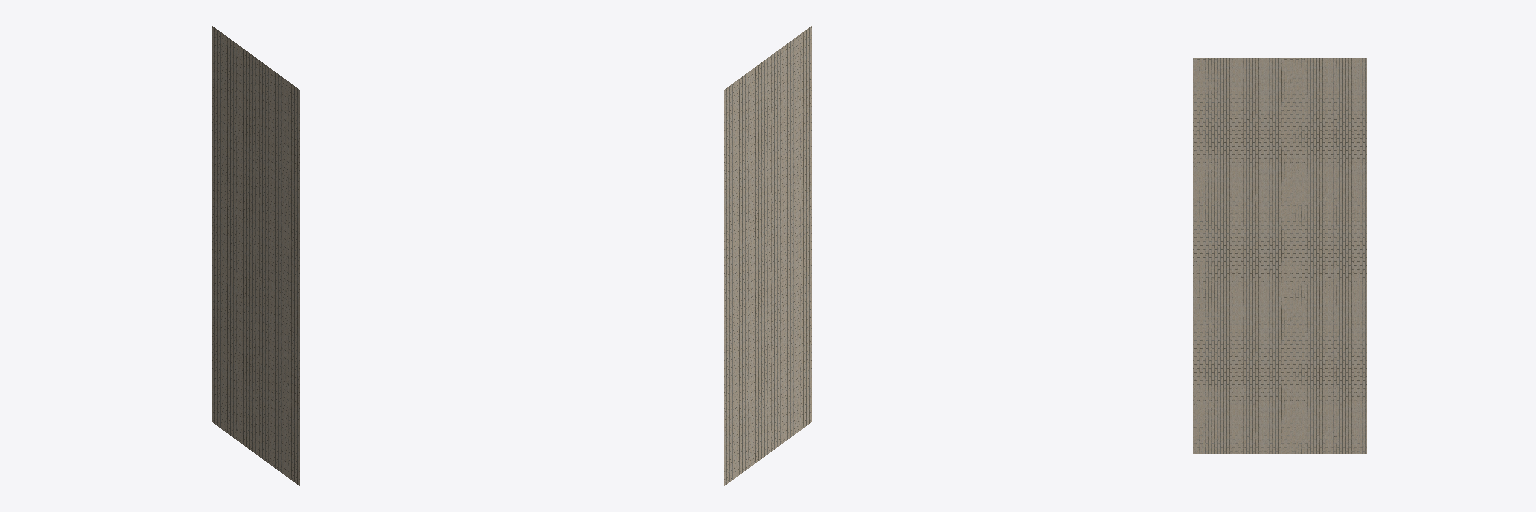
The picture shows the model from 3 angles: view 1: azimuth 30°, elevation 25°; view 2: azimuth 150°, elevation 25°; view 3: azimuth 270°, elevation 25°; orthographic projection.
Parts seen in each view (by area): view 1: Plane001; view 2: Plane001; view 3: Plane001.
Boxes of the visible parts, x1=… form: Plane001: x1=212, y1=26, x2=299, y2=485; Plane001: x1=724, y1=26, x2=811, y2=485; Plane001: x1=1193, y1=58, x2=1366, y2=453.
Bounding box in the file's own units: 0 × 502 × 200.
Materials: 1 (1 with a texture image).